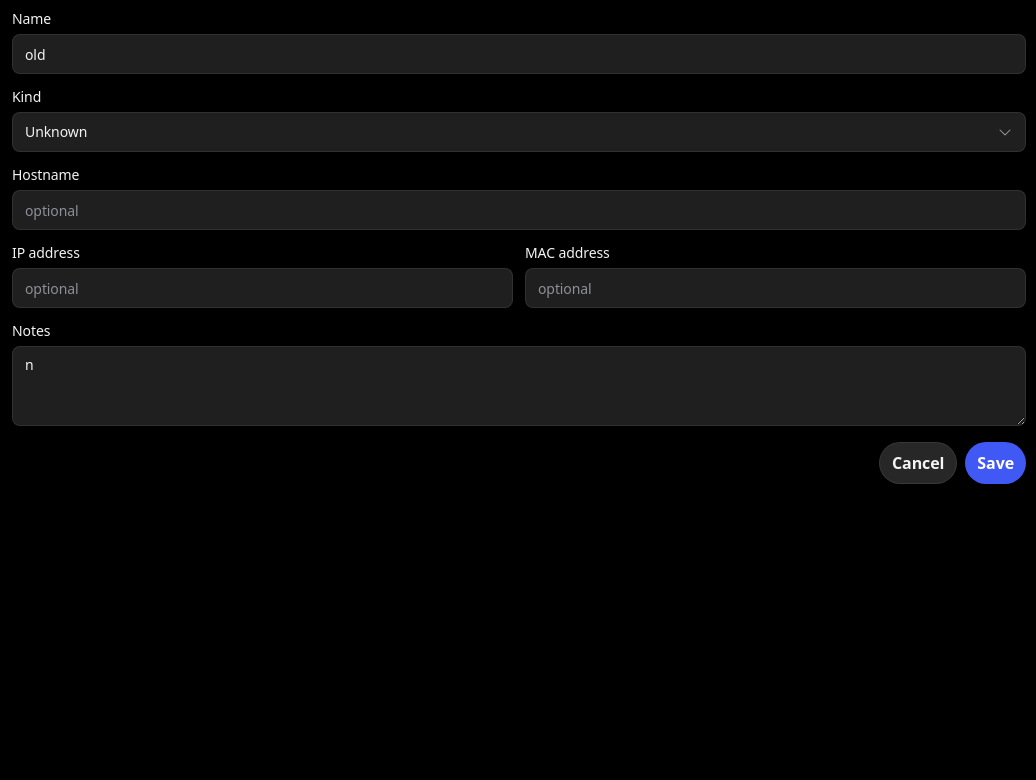
Test: DeviceForm › shows the reason for a rejected value and a plain text for anything else
This screenshot has width=1036, height=780.
Step 1. Click the button "Save" → (996, 463), box [965,442,1026,484]
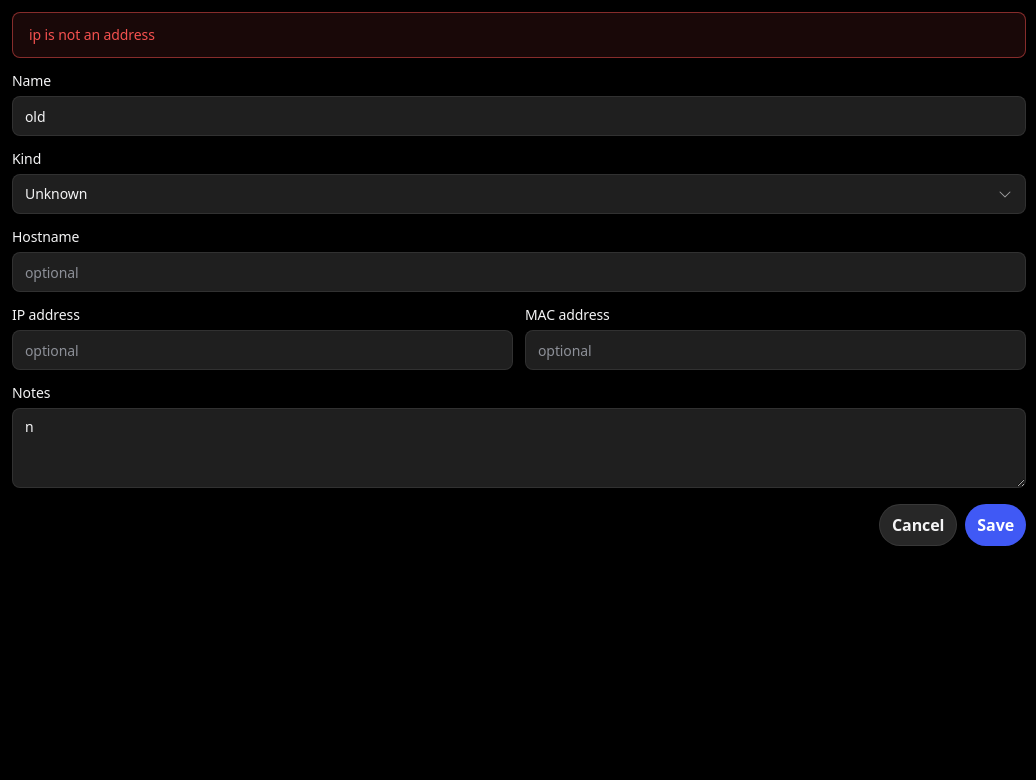
Check: the message reads "ip is not an address", box [29,25,155,44]
Step 2. Click the button "Save" → (996, 525), box [965,504,1026,546]
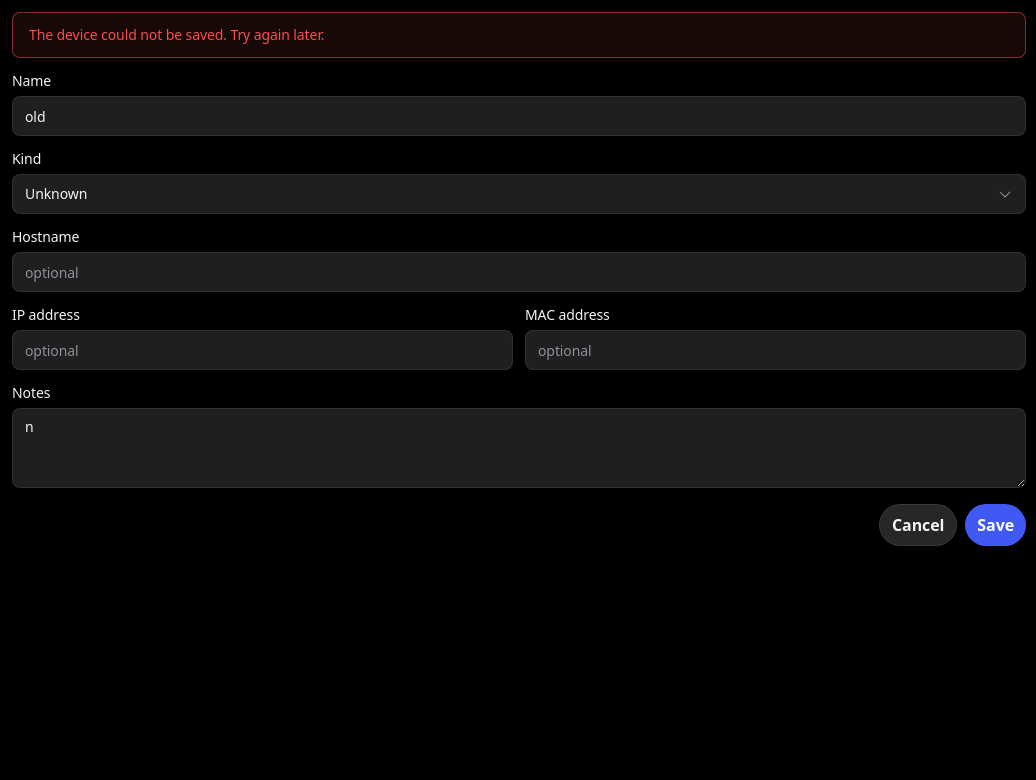
Check: the text "The device could not be saved. Try again later." is shown, box [29,25,324,44]
